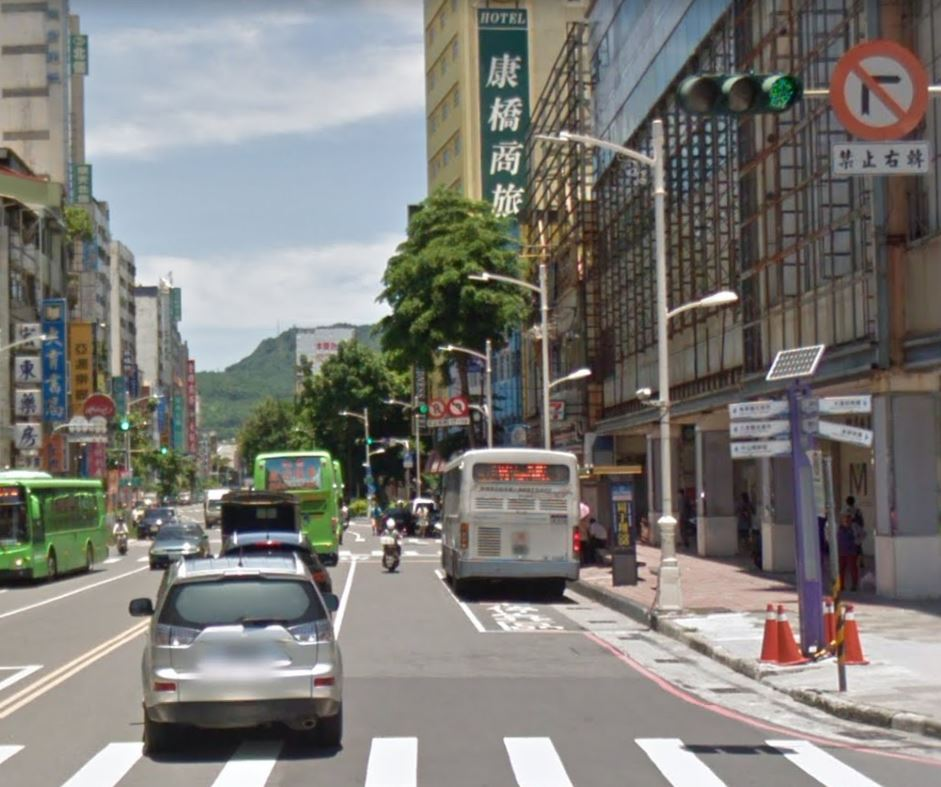Traffic_light_green: (677, 69, 805, 119)
car: (133, 552, 355, 774)
